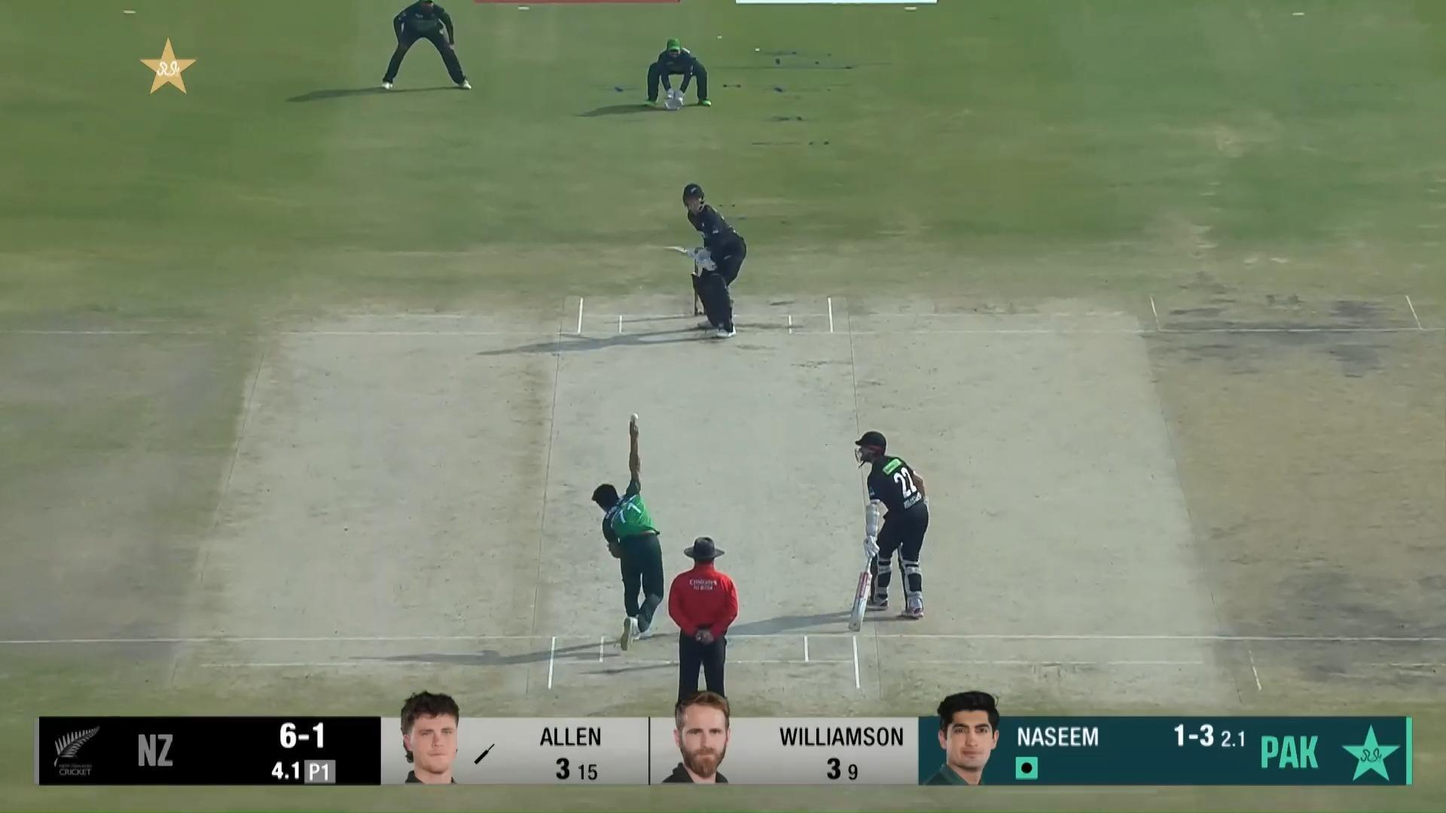BM 1: (660, 183, 748, 341)
BO: (589, 410, 666, 650)
